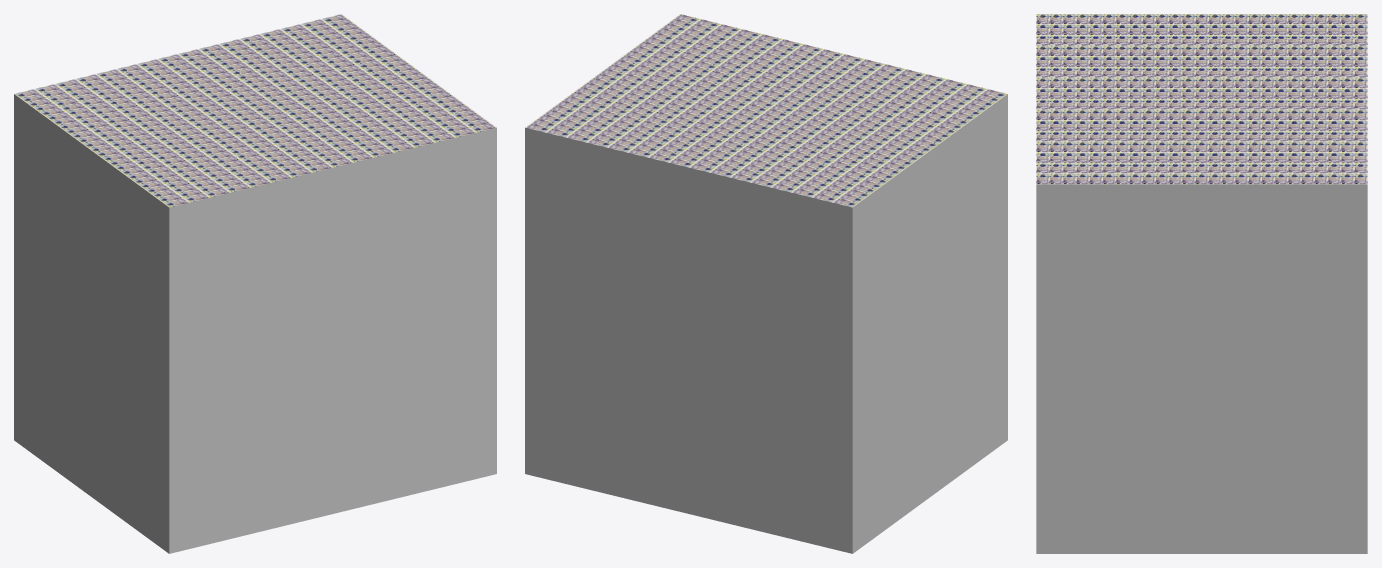
The model's file is 8 One Hundred Million Pounds.glb.
3 views of the same model, side by side, from view 1: azimuth 30°, elevation 25°; view 2: azimuth 150°, elevation 25°; view 3: azimuth 270°, elevation 25° (orthographic). The views are drawn at different scales.
Visible parts, largest first — view 1: 8 One Hundred Million Pounds; view 2: 8 One Hundred Million Pounds; view 3: 8 One Hundred Million Pounds.
Part boxes in pixels (box(x1,y1,x2,y2)): 8 One Hundred Million Pounds: box(14, 14, 496, 553); 8 One Hundred Million Pounds: box(525, 14, 1007, 553); 8 One Hundred Million Pounds: box(1036, 14, 1367, 553).
Size of the model in its own units: 2.22 by 2.25 by 1.83.
Materials: 2 (1 with a texture image).
